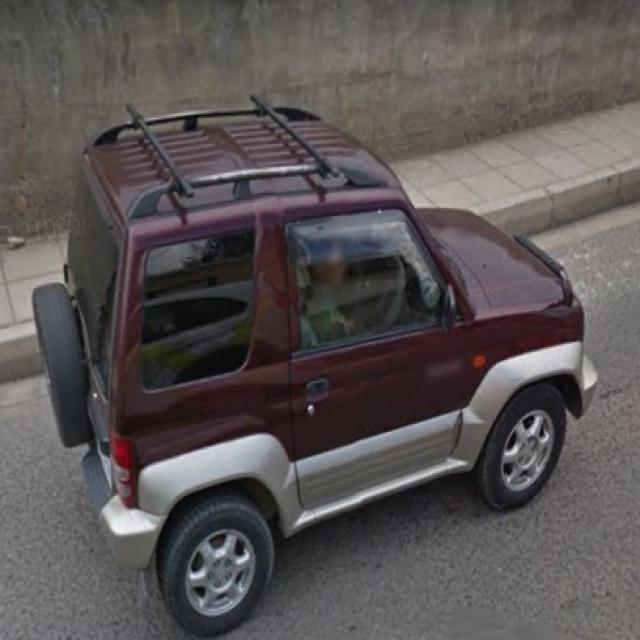car: (32, 96, 600, 637)
